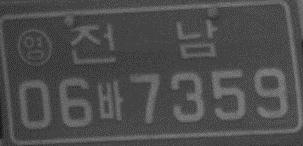0: (17, 78, 51, 131)
3: (170, 71, 205, 123)
5: (210, 69, 247, 121)
6: (57, 77, 92, 129)
7: (128, 72, 163, 123)
9: (253, 67, 289, 119)
바: (96, 79, 124, 121)
영: (16, 27, 53, 68)
전남_D: (69, 18, 217, 65)
